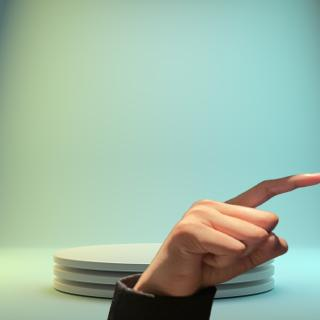WHY: (133, 156, 320, 299)
